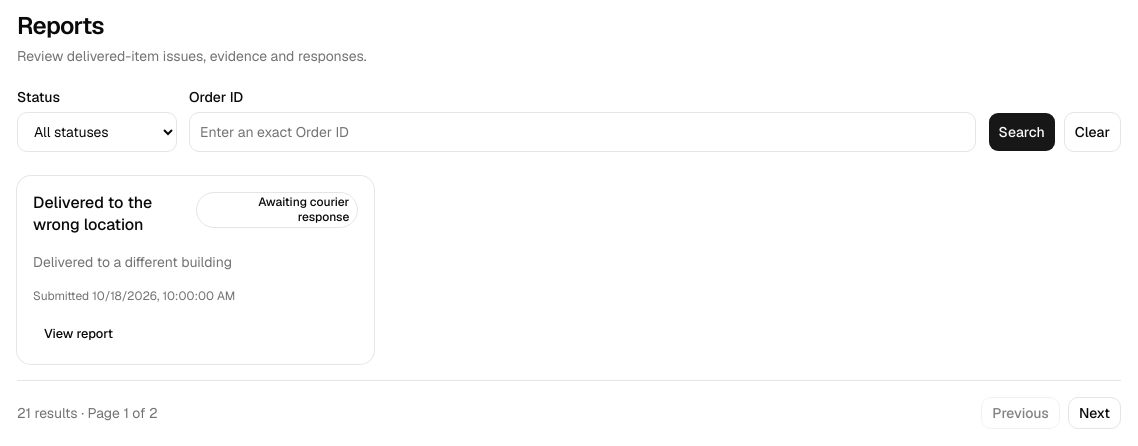
Reports › searches exact Order ID, filters report status and clears both without a refresh button
The image size is (1138, 446).
Step 1. Click the button "Next" → click(1094, 413), box top-left (1068, 397), bottom-right (1121, 429)
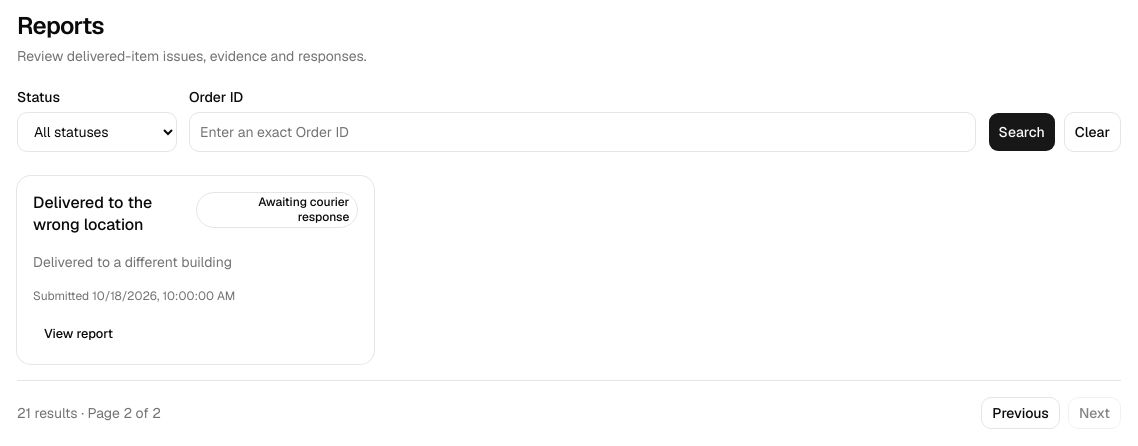
Step 2. Type " order-1 " into the field labelled "Order ID" → (582, 132), box top-left (189, 112), bottom-right (976, 152)
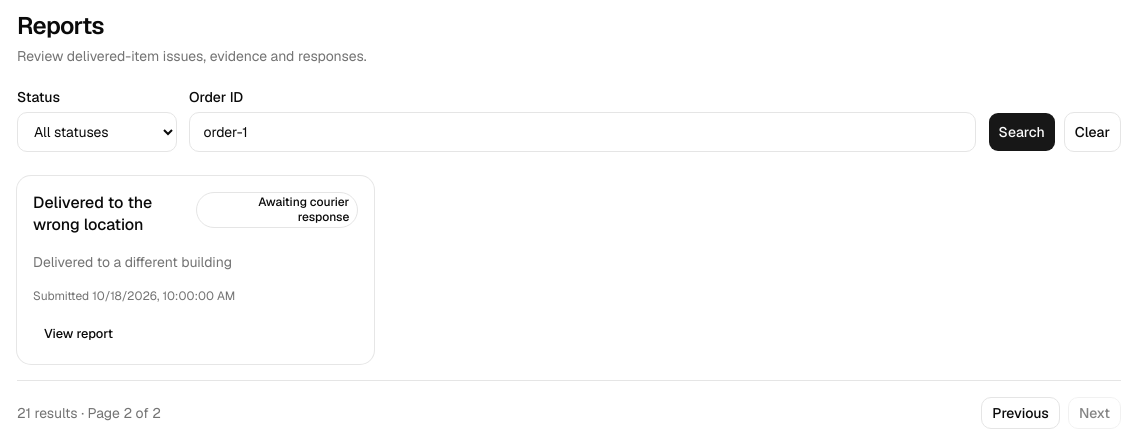
Step 3. Click the button "Search" → click(1022, 132), box top-left (988, 112), bottom-right (1056, 152)
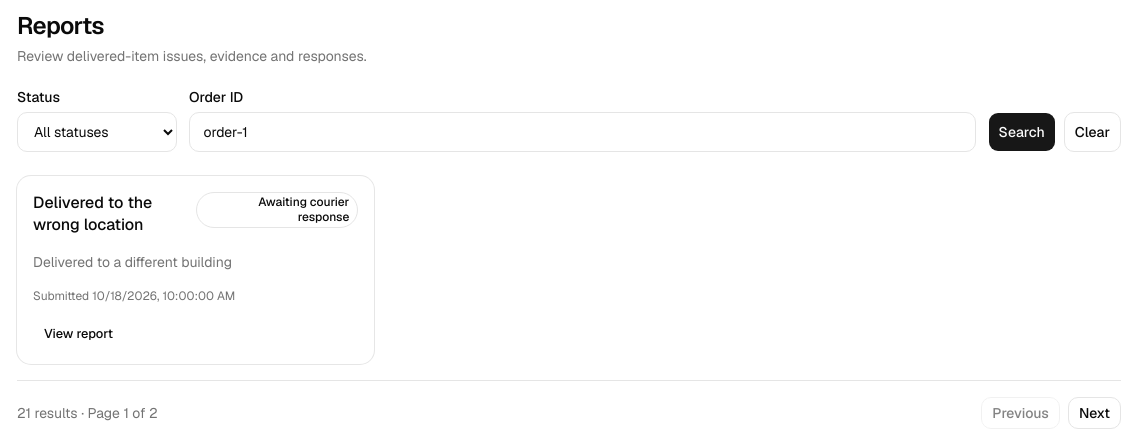
Step 4. Select "Ready for review" in the dropdown named "Report status" → (97, 132), box top-left (17, 112), bottom-right (177, 152)
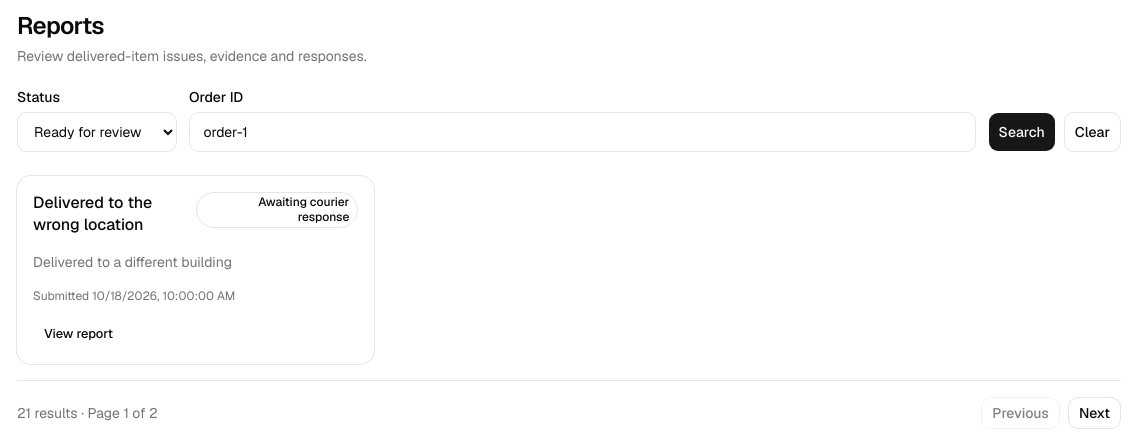
Step 5. Click the button "Clear" → click(1092, 132), box top-left (1064, 112), bottom-right (1121, 152)
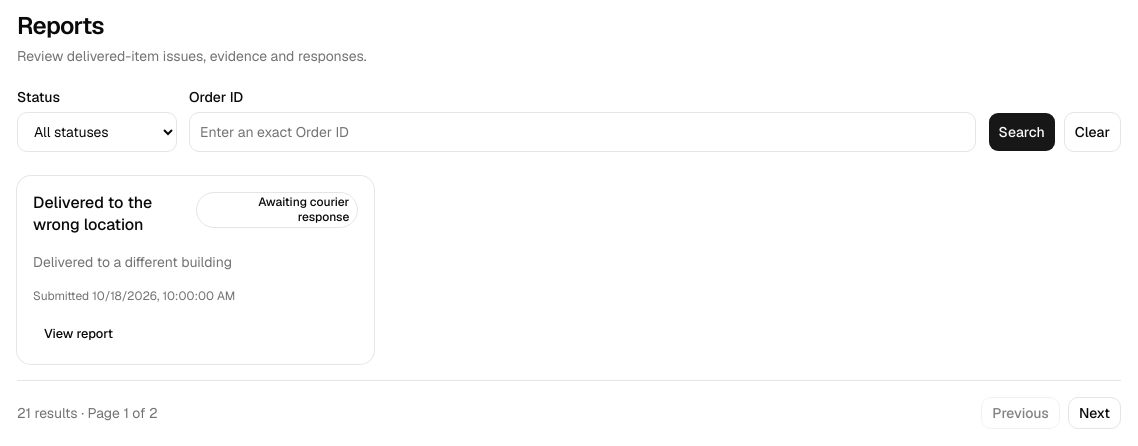
Expected: the field labelled "Order ID" is empty, top-left (189, 112), bottom-right (976, 152)
